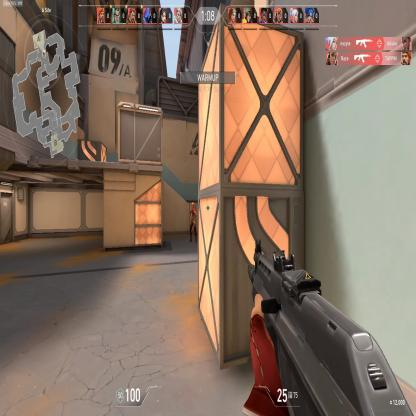enemy: (188, 200, 198, 245)
